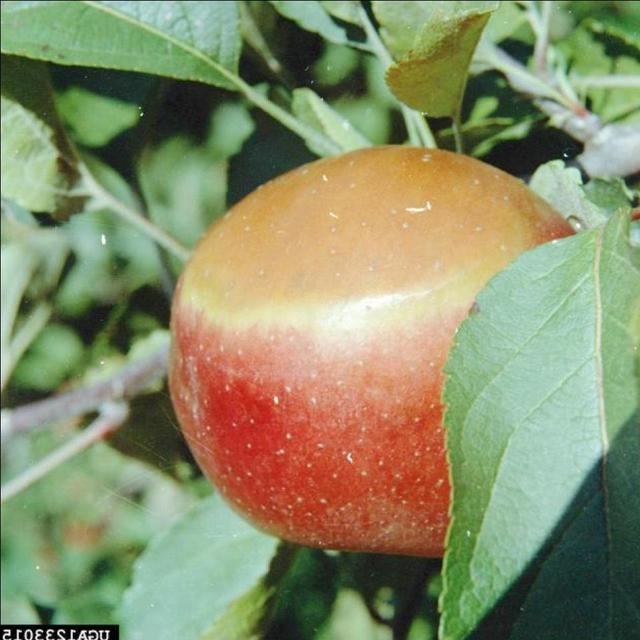Sunscald Fruit: (113, 85, 378, 246)
